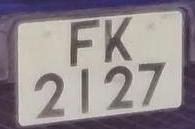1: (70, 64, 100, 118)
2: (26, 66, 73, 123), (96, 59, 141, 113)
7: (135, 57, 169, 114)
F: (60, 16, 105, 72)
K: (99, 13, 140, 68)
